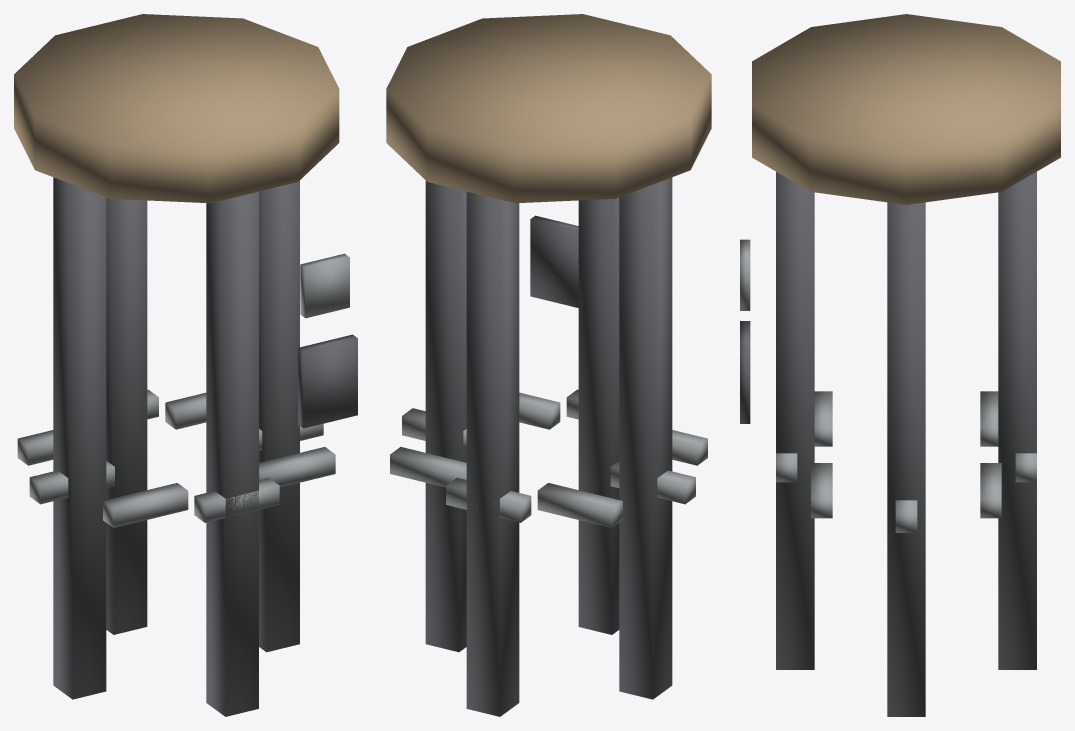
The model's file is shop_stool__weathered.glb.
3 views of the same model, side by side, from view 1: azimuth 30°, elevation 25°; view 2: azimuth 150°, elevation 25°; view 3: azimuth 270°, elevation 25° (orthographic).
Parts seen in each view (by area): view 1: world; view 2: world; view 3: world.
Boxes of the visible parts, x1,y1,x2,y2 form: world: (14, 14, 357, 716); world: (386, 14, 711, 716); world: (740, 14, 1060, 716).
Bounding box in the file's own units: 0.38 × 0.7474 × 0.3754.
